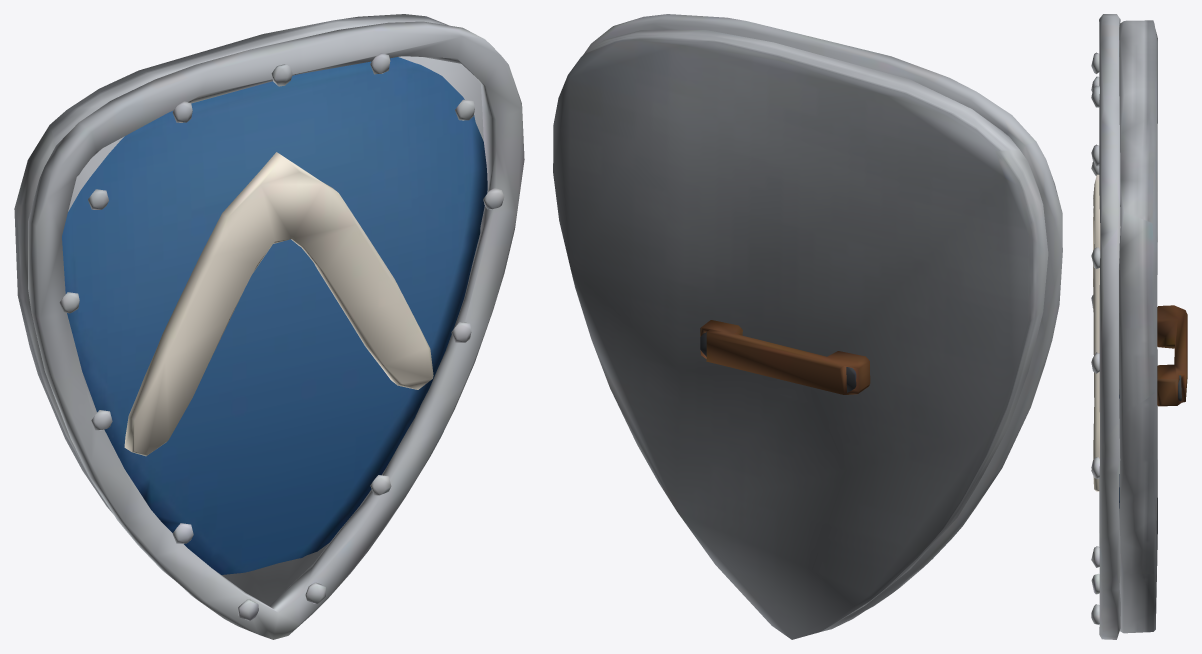
Rendered from kite-shield.glb.
3 views of the same model, side by side, from view 1: azimuth 30°, elevation 25°; view 2: azimuth 150°, elevation 25°; view 3: azimuth 270°, elevation 25° (orthographic). The views are drawn at different scales.
Parts seen in each view (by area): view 1: plate; view 2: plate; view 3: plate.
Boxes of the visible parts, bbox=[...] form: plate: bbox=[14, 14, 524, 639]; plate: bbox=[553, 14, 1062, 639]; plate: bbox=[1091, 14, 1187, 639].
Size of the model in its own units: 0.6957 by 0.7961 by 0.1241.
Materials: 1 (1 with a texture image).
